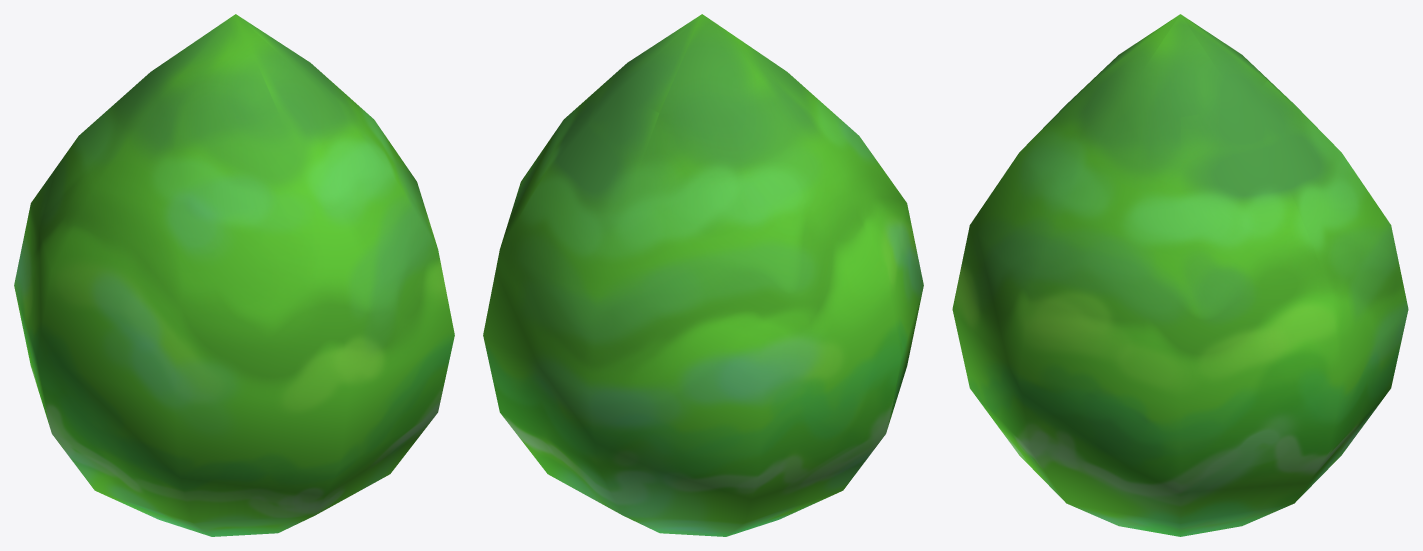
Rendered from Slime_Projectile.fbx.
3 renders of one model, left to right at view 1: azimuth 30°, elevation 25°; view 2: azimuth 150°, elevation 25°; view 3: azimuth 270°, elevation 25°, orthographic.
Parts seen in each view (by area): view 1: slime projectile; view 2: slime projectile; view 3: slime projectile.
Boxes of the visible parts, x1,y1,x2,y2 form: slime projectile: (14, 14, 454, 536); slime projectile: (483, 14, 923, 536); slime projectile: (952, 14, 1408, 536).
Size of the model in its own units: 25.04 by 30.44 by 25.04.
